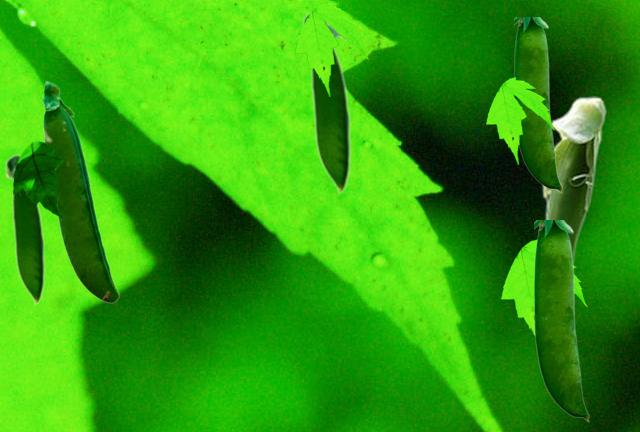pea: (41, 80, 118, 302), (540, 96, 606, 273), (534, 220, 588, 421), (301, 8, 350, 196), (514, 17, 561, 192), (4, 153, 44, 306)
